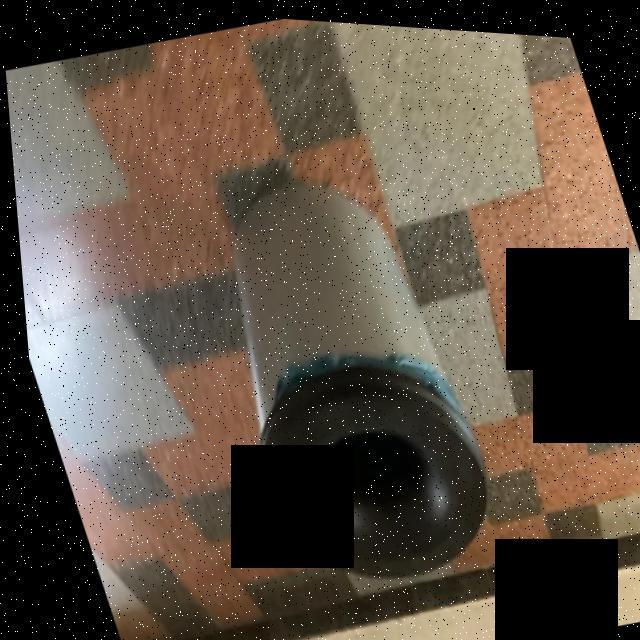bin: (96, 97, 557, 640)
